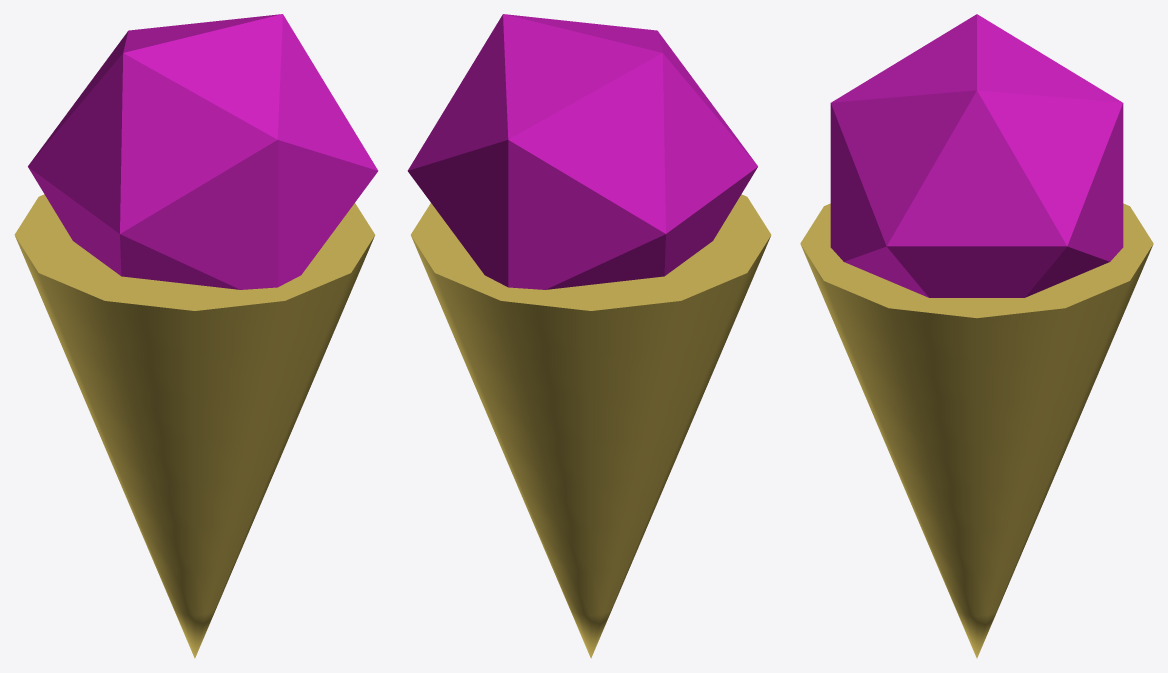
The model's file is ice_1.fbx.
The picture shows the model from 3 angles, left to right: view 1: azimuth 30°, elevation 25°; view 2: azimuth 150°, elevation 25°; view 3: azimuth 270°, elevation 25°; orthographic projection. The views are drawn at different scales.
Visible parts, largest first — view 1: ice_1; view 2: ice_1; view 3: ice_1.
Boxes of the visible parts, <box> form: ice_1: <box>14,14,378,658</box>; ice_1: <box>407,14,771,658</box>; ice_1: <box>800,14,1153,658</box>.
Bounding box in the file's own units: 81.53 × 155 × 81.53.
